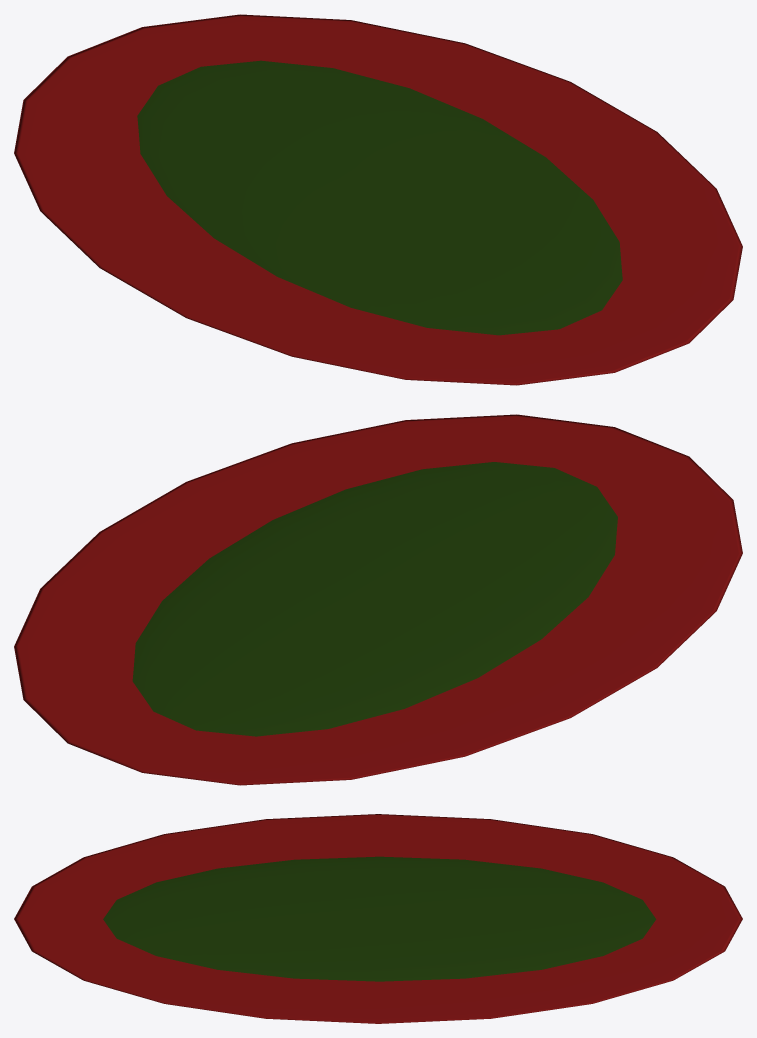
The model's file is alfombra.obj.
The picture shows the model from 3 angles, top to bottom: view 1: azimuth 30°, elevation 25°; view 2: azimuth 150°, elevation 25°; view 3: azimuth 270°, elevation 25°; orthographic projection. The views are drawn at different scales.
Visible parts, largest first — view 1: pSphere1, pSphere2; view 2: pSphere1, pSphere2; view 3: pSphere1, pSphere2.
Part boxes in pixels (<box>): pSphere1: <box>14,14,742,385</box>; pSphere2: <box>137,60,622,335</box>; pSphere1: <box>14,414,742,785</box>; pSphere2: <box>132,462,617,736</box>; pSphere1: <box>14,814,742,1023</box>; pSphere2: <box>103,856,656,981</box>.
Bounding box in the file's own units: 2.39 × 0.0991 × 3.5.
Materials: 4 (4 with a texture image).
